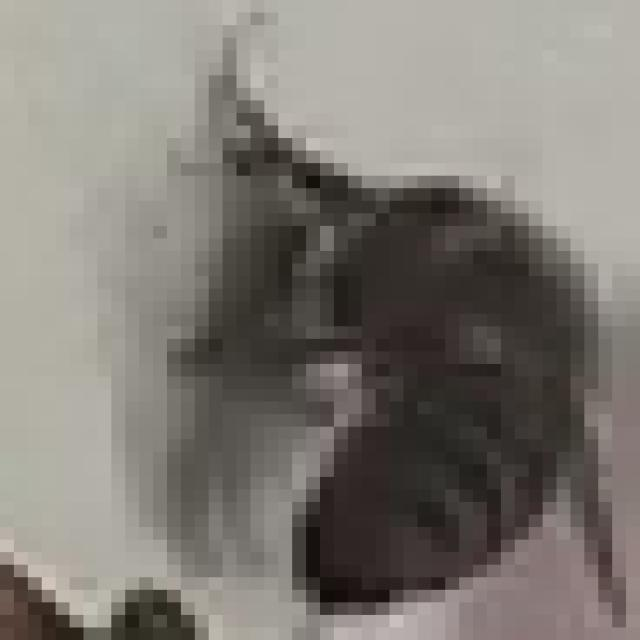honeybee: (125, 34, 634, 630)
